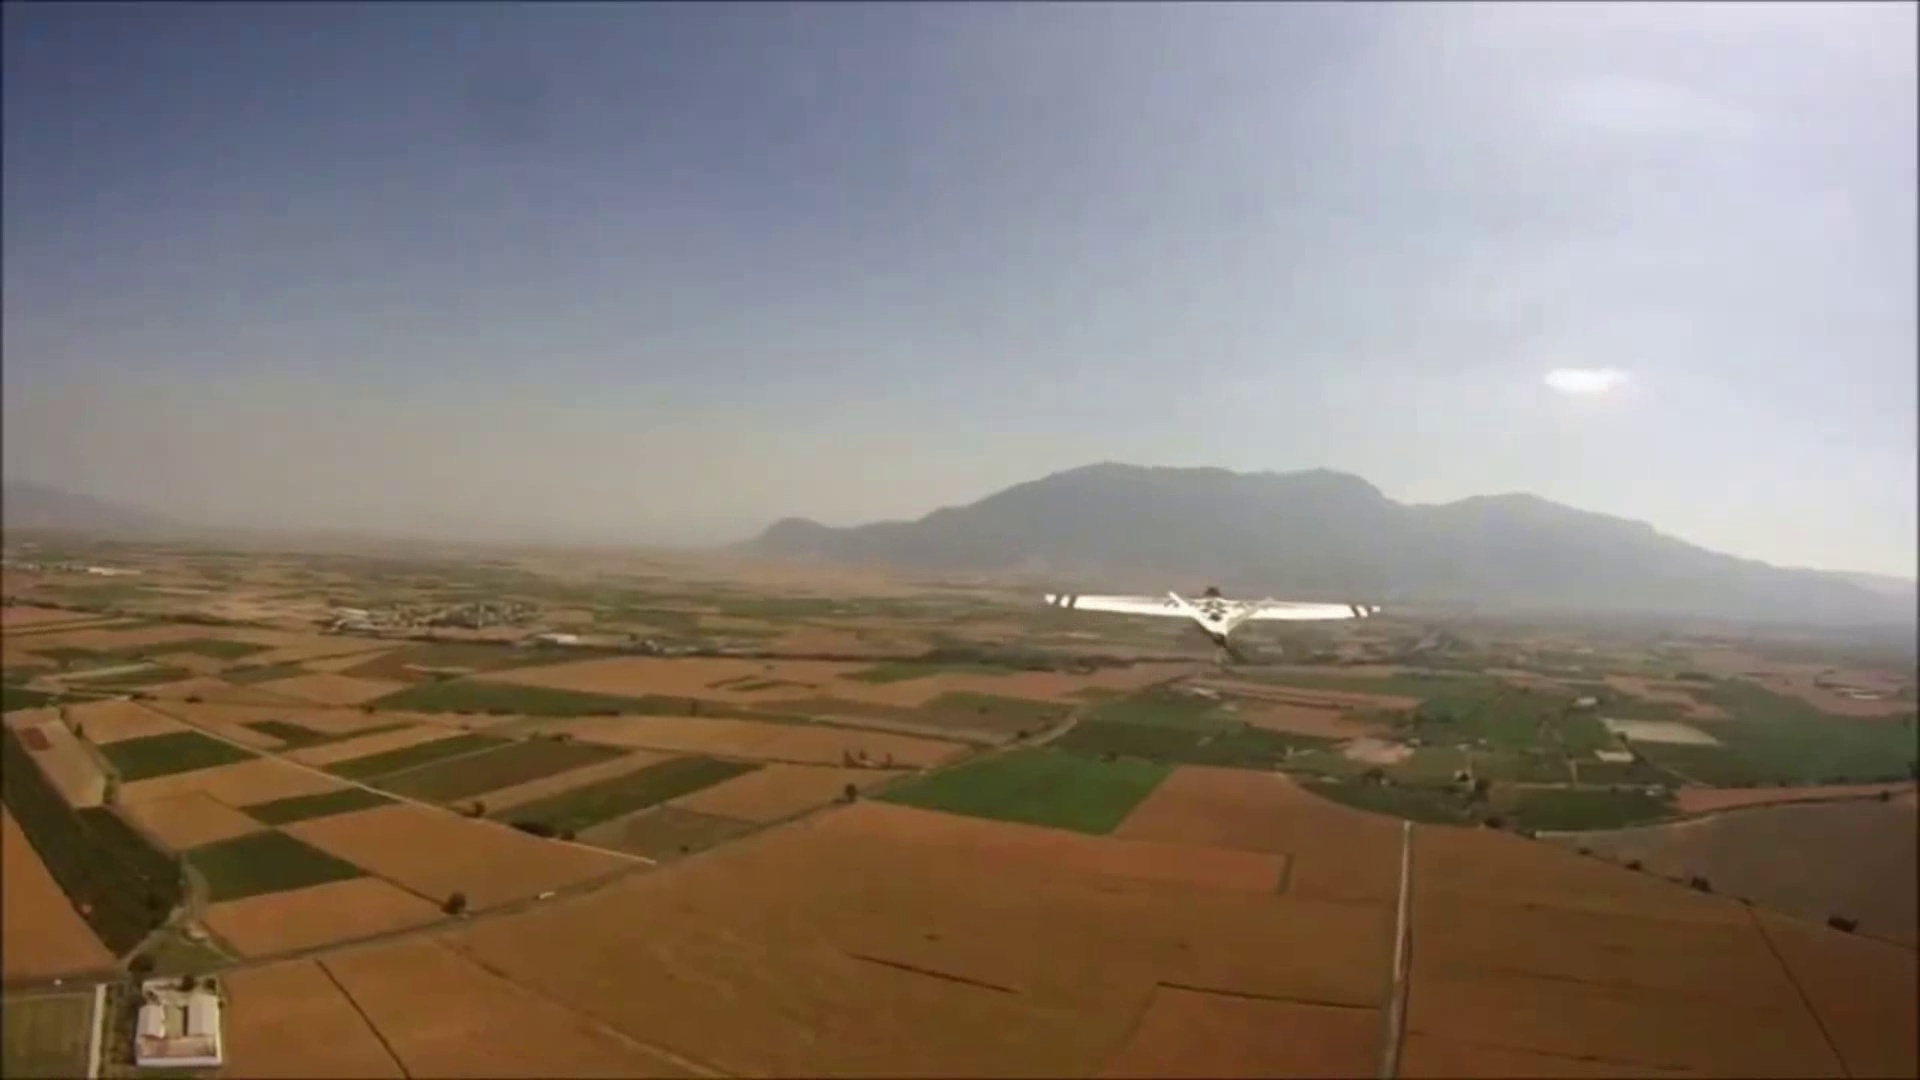airplane: (1043, 580, 1385, 663)
